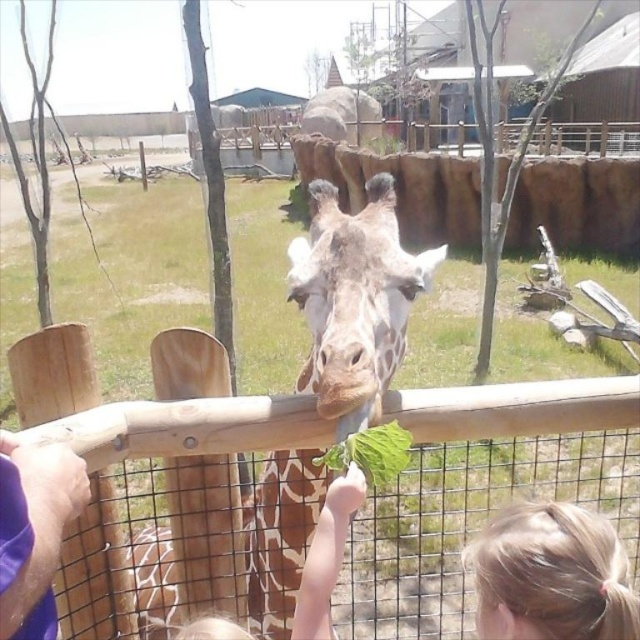Giraffe: (126, 176, 454, 639)
